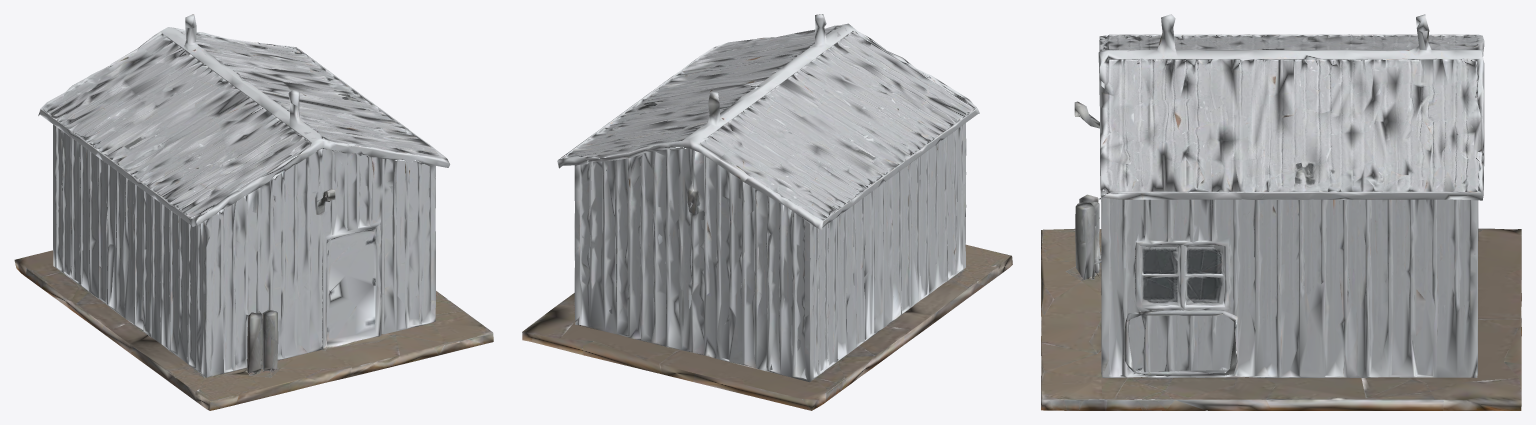
Rendered from milk-house-lite.glb.
3 views of the same model, side by side, from view 1: azimuth 30°, elevation 25°; view 2: azimuth 150°, elevation 25°; view 3: azimuth 270°, elevation 25° (orthographic). The views are drawn at different scales.
Size of the model in its own units: 1.6 by 1.34 by 1.9.
Materials: 1 (1 with a texture image).
